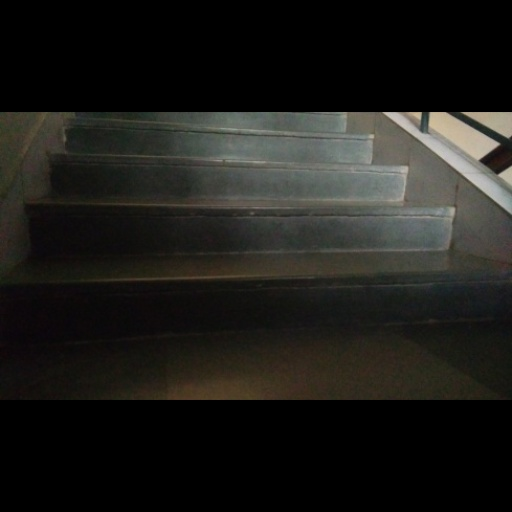Stairs: (30, 114, 454, 397)
